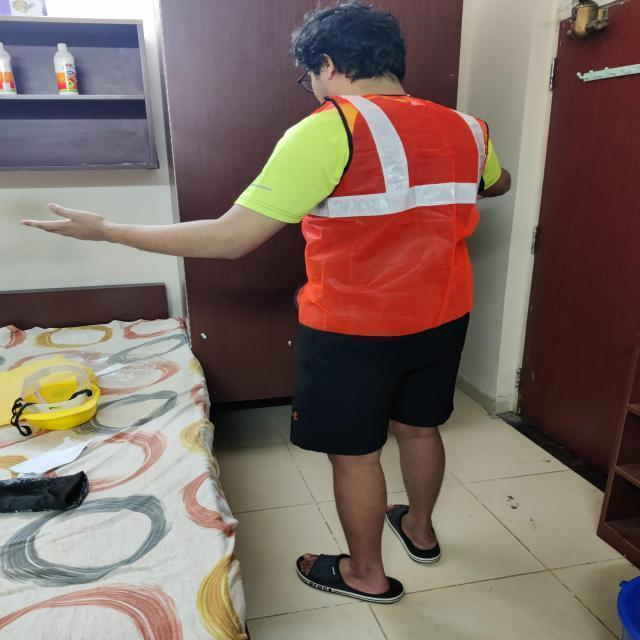no-helmet: (291, 2, 407, 84)
vest: (293, 93, 485, 341)
